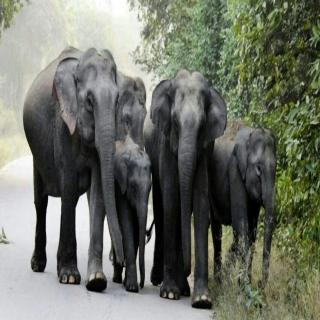Elephant: (18, 45, 125, 297), (144, 63, 228, 314), (213, 108, 286, 293), (113, 134, 152, 296)
